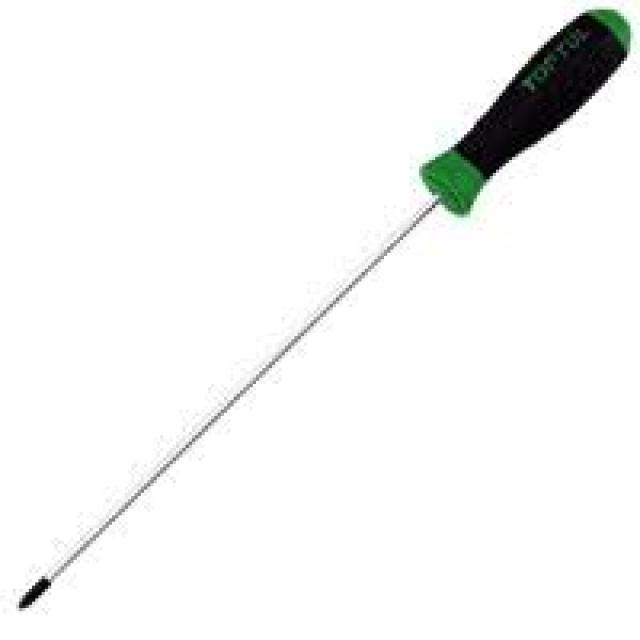screwdriver: (11, 8, 632, 610)
